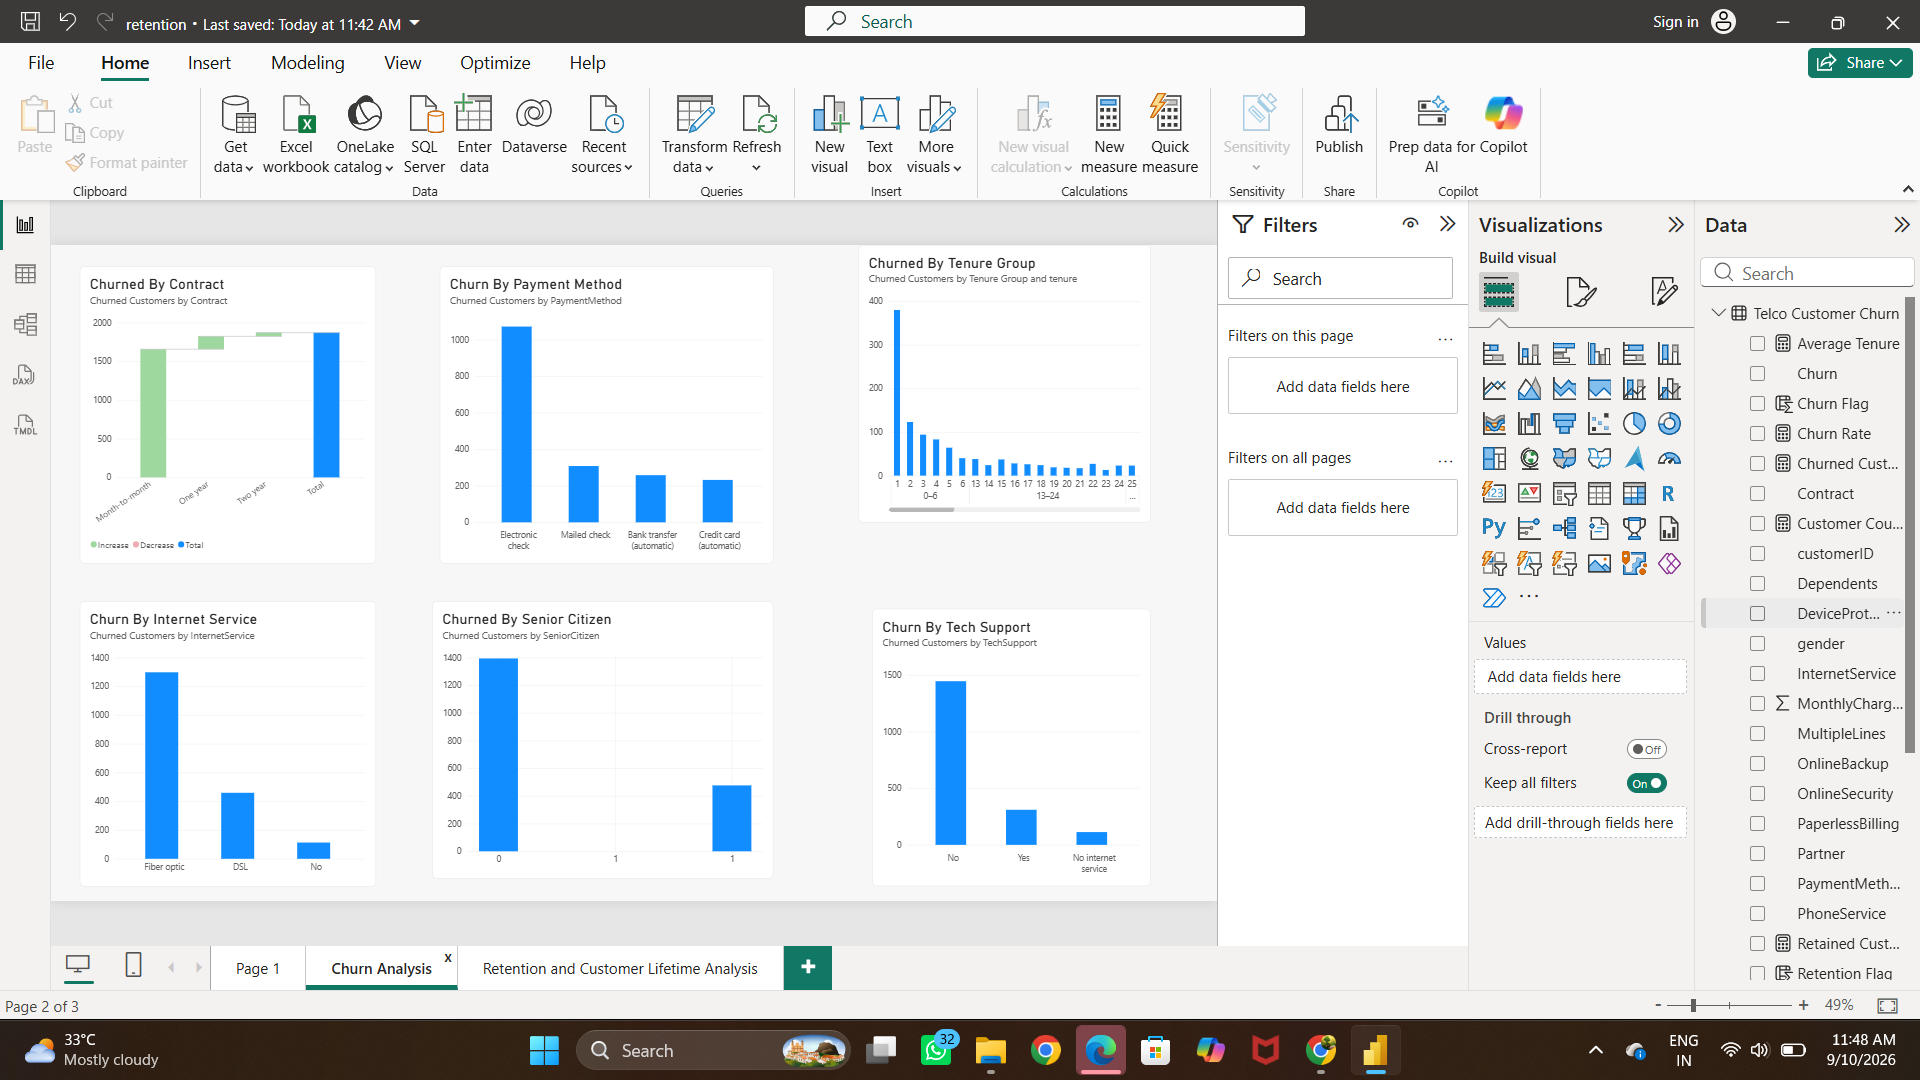

What the dashboard file says about the page in this screenshot:
{"tool":"powerbi","page":{"name":"Churn Analysis","canvas":[1920,1080],"ordinal":1},"visuals":[{"type":"waterfallChart","title":"Churned By Contract","fields":{"Category":["Telco Customer Churn.Contract"],"Y":["Telco Customer Churn.Churned Customers"]},"box":[47.3,35,487.8,489.9],"z":0},{"type":"clusteredColumnChart","title":"Churn By Internet Service","fields":{"Category":["Telco Customer Churn.InternetService"],"Y":["Telco Customer Churn.Churned Customers"]},"box":[47.3,586.6,487.8,469.3],"z":1000},{"type":"clusteredColumnChart","title":"Churn By Payment Method","fields":{"Category":["Telco Customer Churn.PaymentMethod"],"Y":["Telco Customer Churn.Churned Customers"]},"box":[640.1,35,549.6,489.9],"z":2000},{"type":"clusteredColumnChart","title":"Churned By Tenure Group","fields":{"Category":["Telco Customer Churn.Tenure Group","Telco Customer Churn.tenure"],"Y":["Telco Customer Churn.Churned Customers"]},"box":[1329.7,0,481.6,456.9],"z":3000},{"type":"clusteredColumnChart","title":"Churned By Senior Citizen","fields":{"Category":["Telco Customer Churn.SeniorCitizen"],"Y":["Telco Customer Churn.Churned Customers"]},"box":[627.8,586.6,561.9,456.9],"z":4000},{"type":"clusteredColumnChart","title":"Churn By Tech Support","fields":{"Category":["Telco Customer Churn.TechSupport"],"Y":["Telco Customer Churn.Churned Customers"]},"box":[1352.3,599,458,457],"z":5000}]}

Visuals, with their boxes on the page's 1920x1080 design canvas (x1, y1, x2, y2). These are canvas units, not pixel positions in the 1920x1080 screenshot, which may show the page scaled, cropped or inside an application window:
"Churned By Contract" waterfallChart: bbox(47, 35, 535, 525)
"Churn By Internet Service" clusteredColumnChart: bbox(47, 587, 535, 1056)
"Churn By Payment Method" clusteredColumnChart: bbox(640, 35, 1190, 525)
"Churned By Tenure Group" clusteredColumnChart: bbox(1330, 0, 1811, 457)
"Churned By Senior Citizen" clusteredColumnChart: bbox(628, 587, 1190, 1044)
"Churn By Tech Support" clusteredColumnChart: bbox(1352, 599, 1810, 1056)
